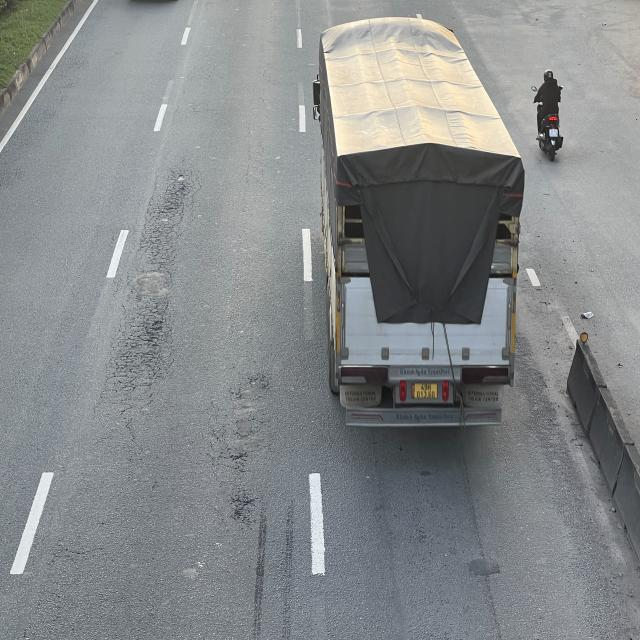truck: (312, 16, 525, 432)
